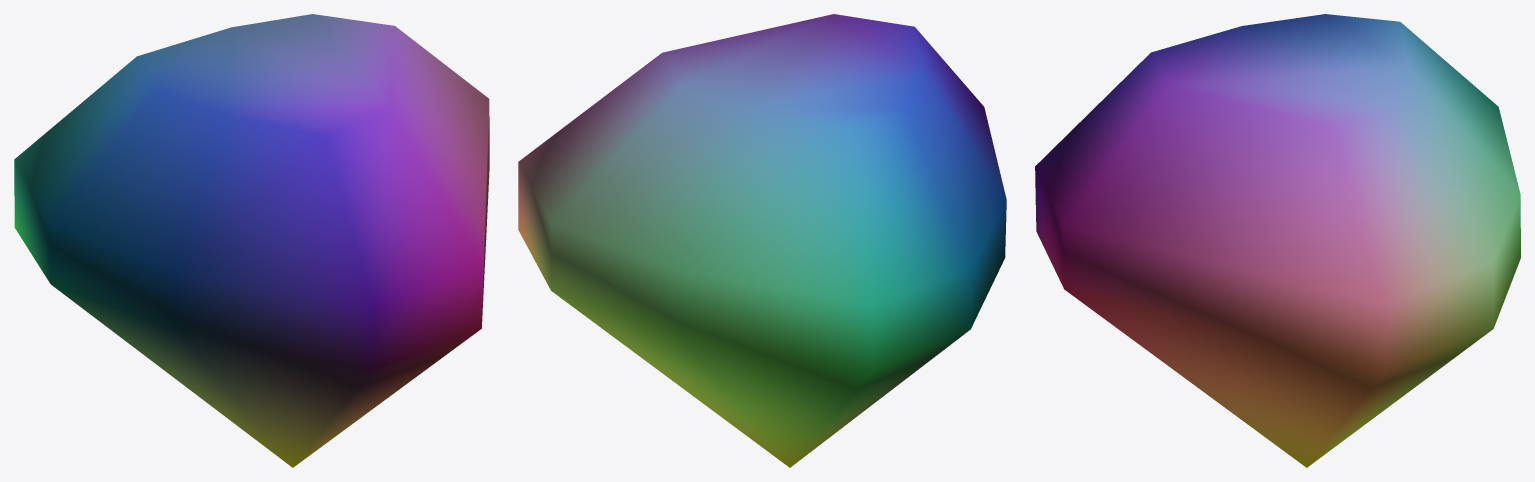
The model's file is SM_Pickup_Gem_Topaz_1.fbx.
The picture shows the model from 3 angles, left to right: view 1: azimuth 30°, elevation 25°; view 2: azimuth 150°, elevation 25°; view 3: azimuth 270°, elevation 25°; orthographic projection. The views are drawn at different scales.
Parts seen in each view (by area): view 1: SM_Pickup_Gem_Topaz_1; view 2: SM_Pickup_Gem_Topaz_1; view 3: SM_Pickup_Gem_Topaz_1.
Boxes of the visible parts, left/top/right/bottom form: SM_Pickup_Gem_Topaz_1: left=14, top=14, right=489, bottom=467; SM_Pickup_Gem_Topaz_1: left=518, top=14, right=1006, bottom=467; SM_Pickup_Gem_Topaz_1: left=1035, top=14, right=1520, bottom=467.
Size of the model in its own units: 0.0943 by 0.0809 by 0.0899.
